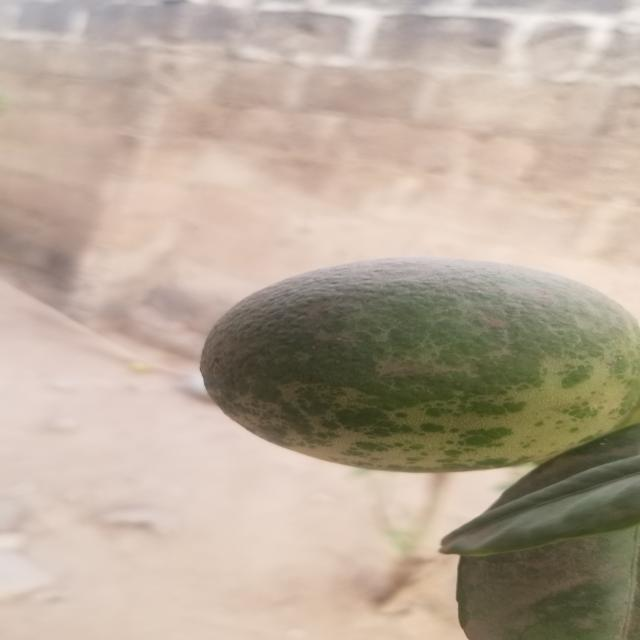Unripe: (196, 256, 633, 472)
